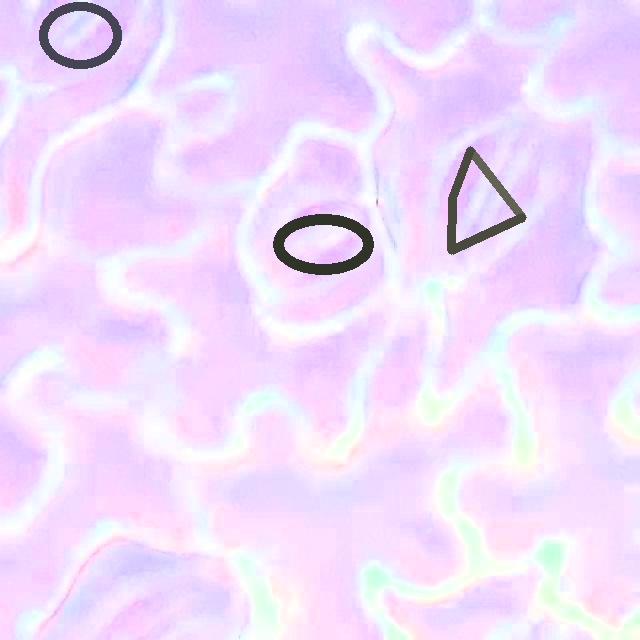close: (273, 214, 374, 275)
open: (449, 147, 525, 254), (37, 1, 122, 69)
